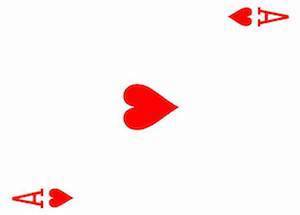AceOfHearts: (1, 2, 295, 215)
